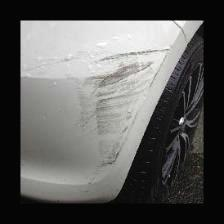bumper_scratch: (46, 38, 173, 177)
